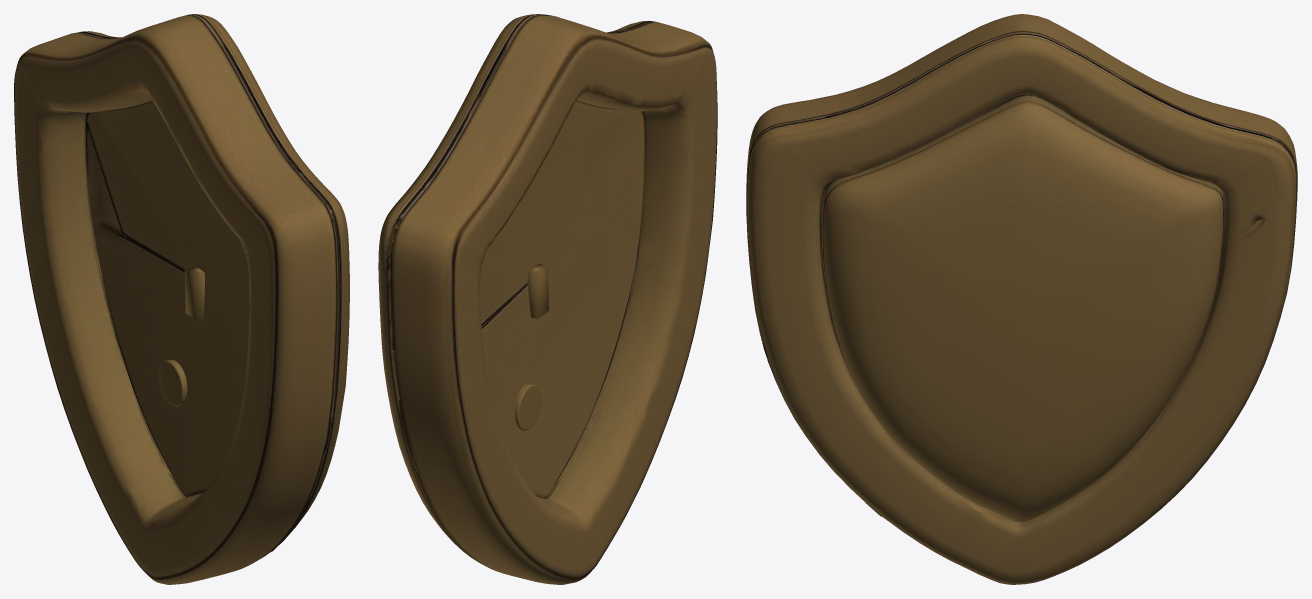
Rendered from prop_foam_shield_01.glb.
3 renders of one model, left to right at view 1: azimuth 30°, elevation 25°; view 2: azimuth 150°, elevation 25°; view 3: azimuth 270°, elevation 25°, orthographic.
Parts seen in each view (by area): view 1: prop_foam_shield_01; view 2: prop_foam_shield_01; view 3: prop_foam_shield_01.
Part boxes in pixels (bbox=[...]): prop_foam_shield_01: bbox=[14, 14, 349, 584]; prop_foam_shield_01: bbox=[378, 14, 717, 584]; prop_foam_shield_01: bbox=[746, 14, 1297, 584].
Bounding box in the file's own units: 0.2242 × 1 × 0.9043.
Materials: 1 (1 with a texture image).
